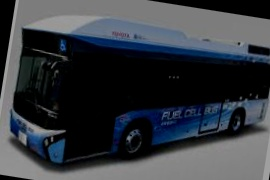bus: (1, 3, 270, 180)
